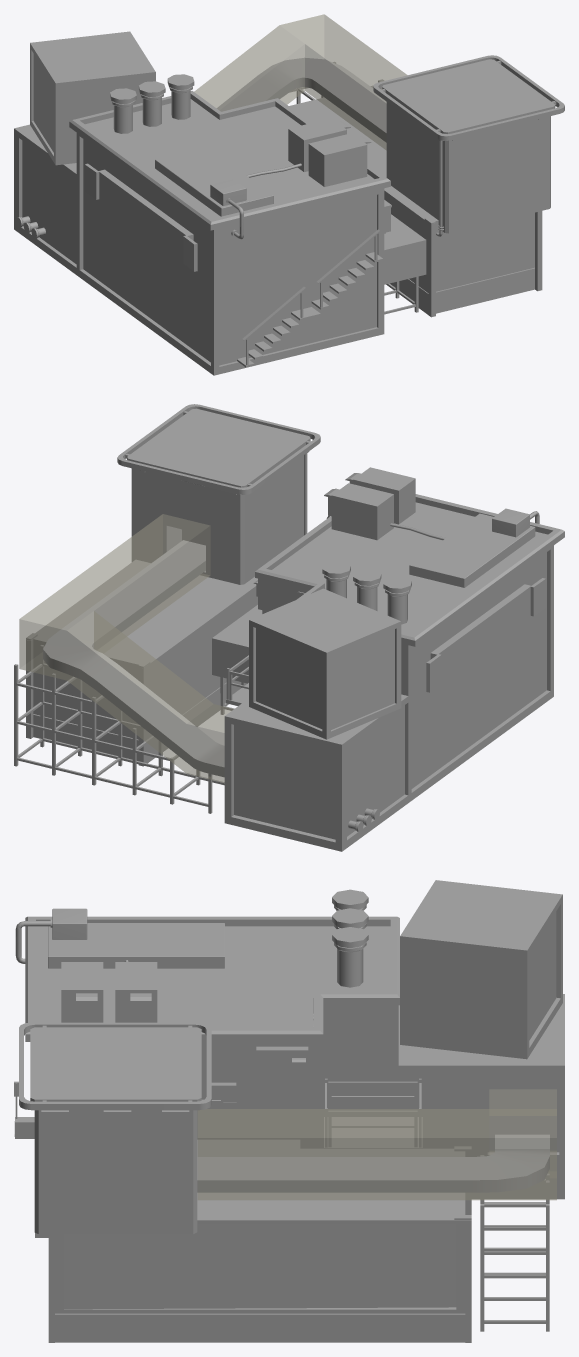
File: SM_Module_Factory.fbx
3 renders of one model, top to bottom at view 1: azimuth 30°, elevation 25°; view 2: azimuth 150°, elevation 25°; view 3: azimuth 270°, elevation 25°, orthographic. The views are drawn at different scales.
Visible parts, largest first — view 1: factory_combined; view 2: factory_combined; view 3: factory_combined.
Part boxes in pixels (x1,y1,x2,y2): factory_combined: (14,14,564,375); factory_combined: (14,404,564,851); factory_combined: (14,880,564,1342).
Bounding box in the file's own units: 397 × 200 × 400.
